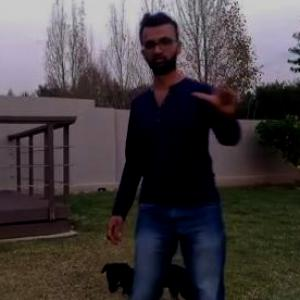land_hand: (191, 54, 249, 116)
